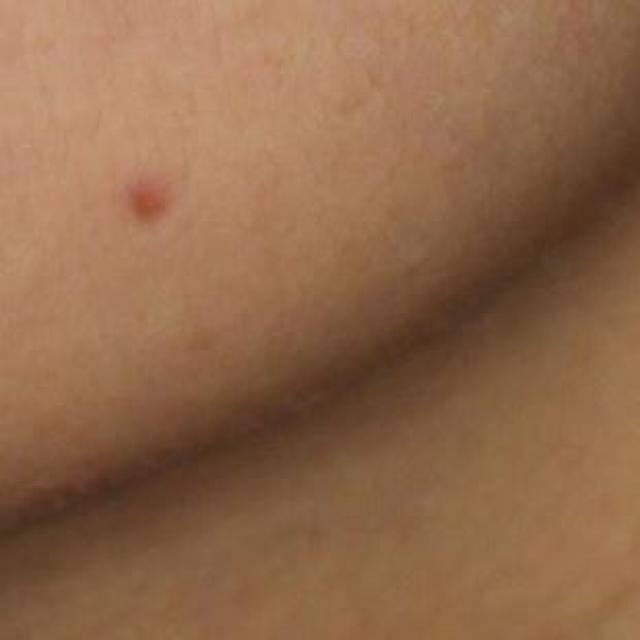blackheads: (123, 168, 180, 233)
